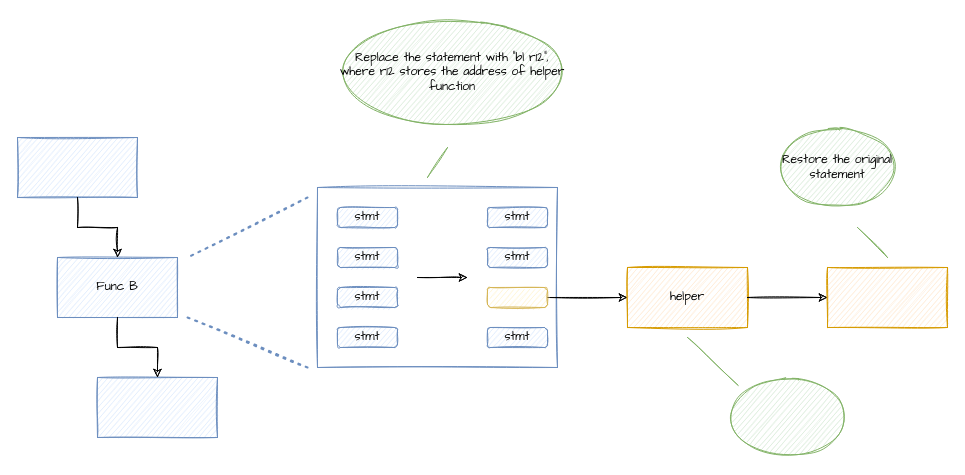
Image size: 965x475. Some labels were removed from this diagram. The shapes that lost their labels are listed below. From the top down, each one's box as (x1, y1, x2, y2) in pixels, then its label:
(16, 136, 138, 198): Func A
(486, 286, 548, 308): bl r12
(826, 266, 948, 328): debugger
(96, 376, 218, 438): Func C
(726, 376, 848, 458): Subtract Program Counter by 4 before returning
